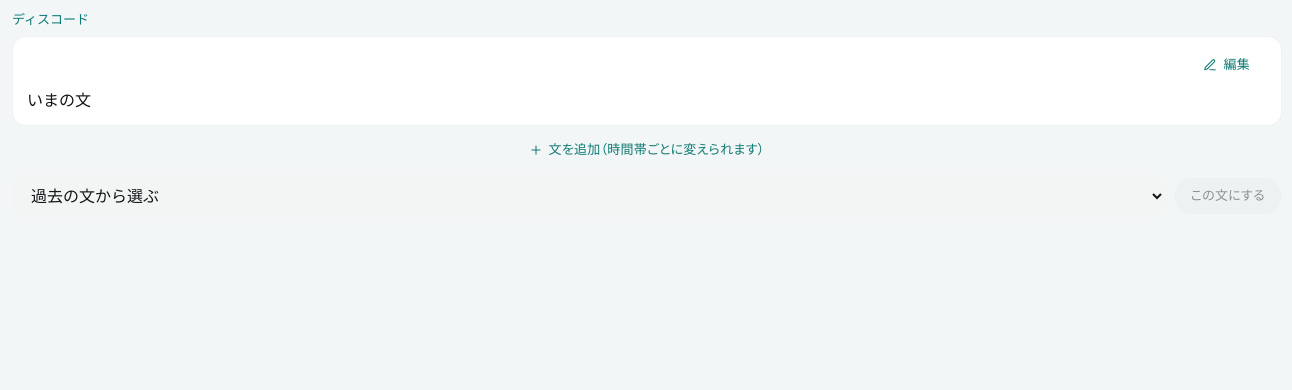
Scenario: ChannelTextRow（トップの一番上の、いま投稿されている文） › その場で直す（編集） › 長すぎる文は保存しない
This screenshot has width=1292, height=390.
Click the button with aria-label "ディスコードの投稿する文を編集" at (1227, 64), box 1188,46 -> 1267,82
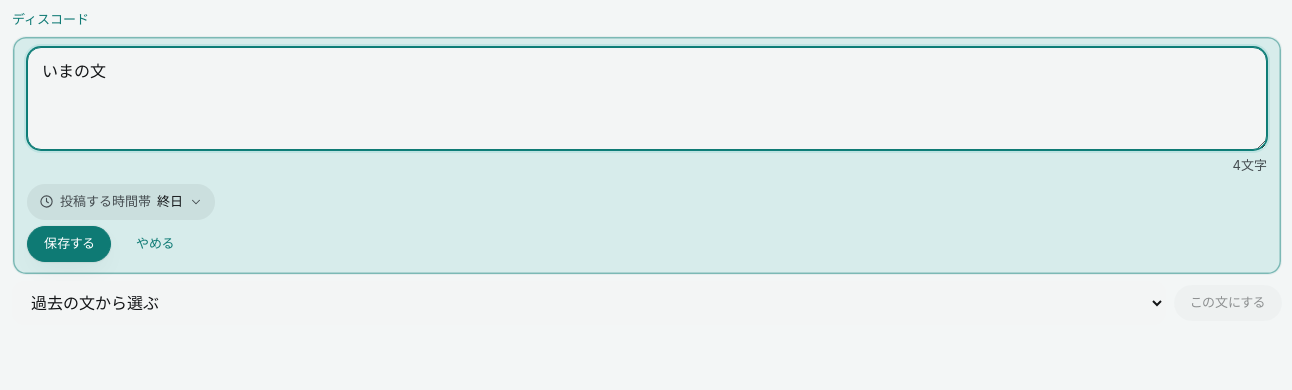
Replace the text in the text box named "ディスコードの投稿する文" with "123456" at (647, 98), box 27,46 -> 1267,150
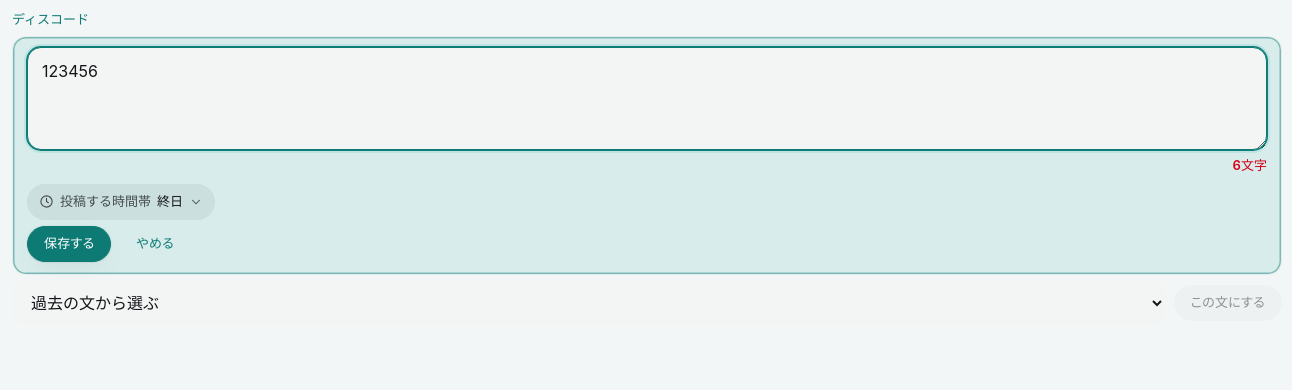
Click the button "保存する" at (69, 244), box 27,226 -> 112,262
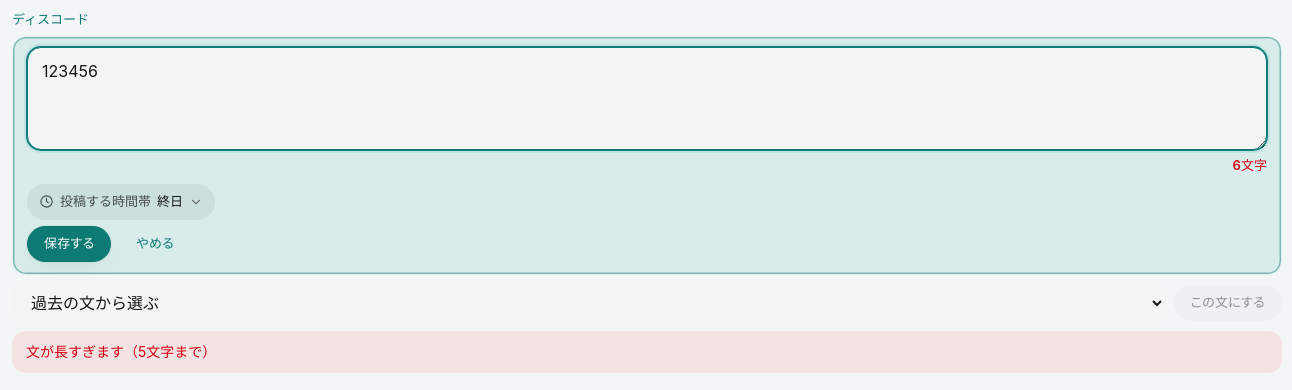
Result: the message shows "長すぎます（5文字まで）" at 26,343 -> 216,360
